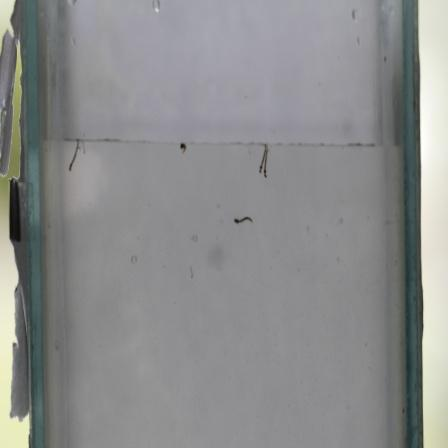Jentik-Nyamuk: (65, 136, 86, 175), (256, 142, 270, 180), (230, 213, 254, 228), (176, 138, 188, 155)
